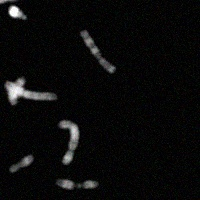chromosome: (81, 29, 116, 72), (4, 80, 58, 101), (57, 118, 80, 166), (0, 0, 27, 28), (55, 177, 100, 192), (9, 153, 34, 173), (8, 75, 24, 104), (9, 5, 29, 21)
